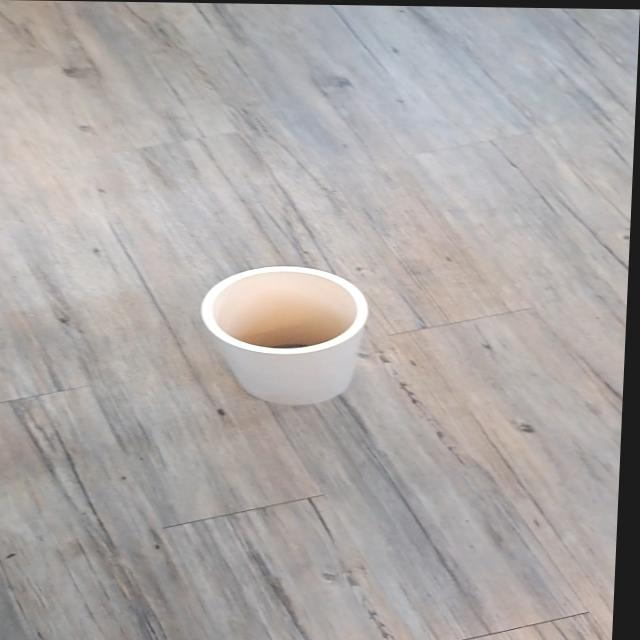CORAL: (171, 241, 401, 412)
